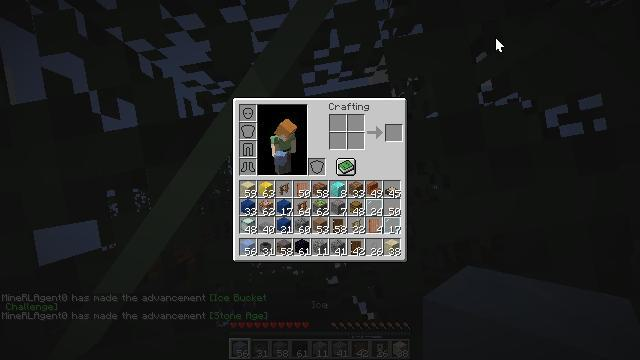cursor: (495, 37, 505, 53)
